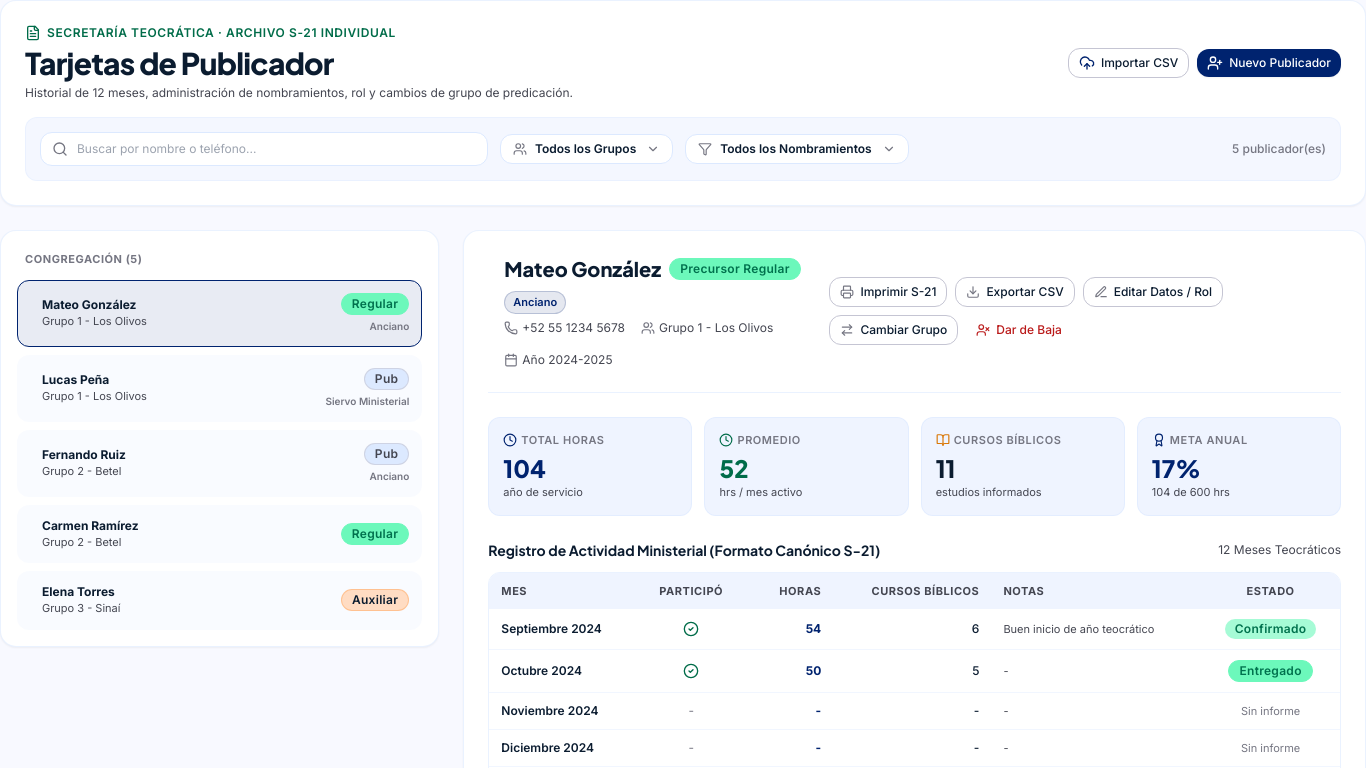
Test: PublisherCardsPage › abre el modal de crear publicador y registra uno nuevo
Click the button "Nuevo Publicador": [1269, 63] box [1197,49,1341,77]
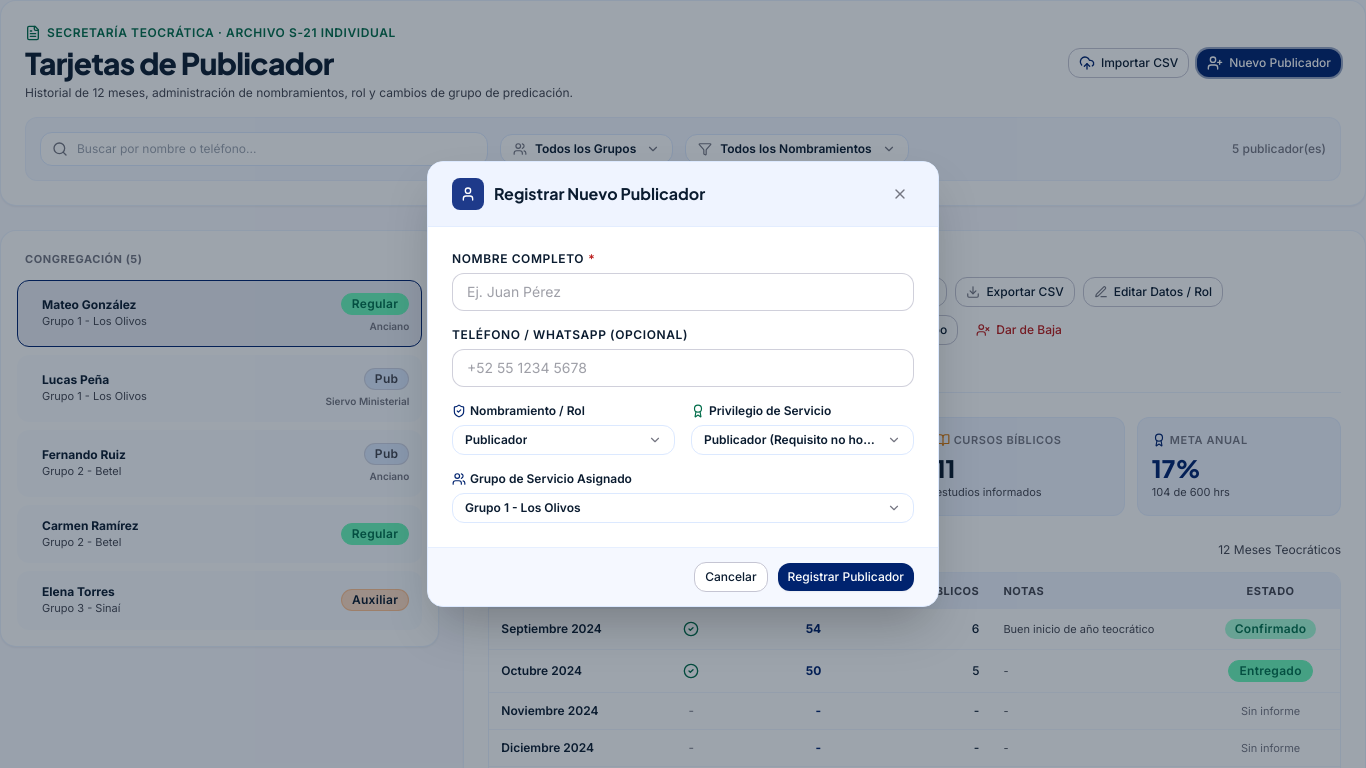
Expected: the heading "Registrar Nuevo Publicador" is shown, [494,182,705,206]
In the field labelled "Nombre Completo*": [683, 292] box [452,273,914,311], type "Benjamín Castro"
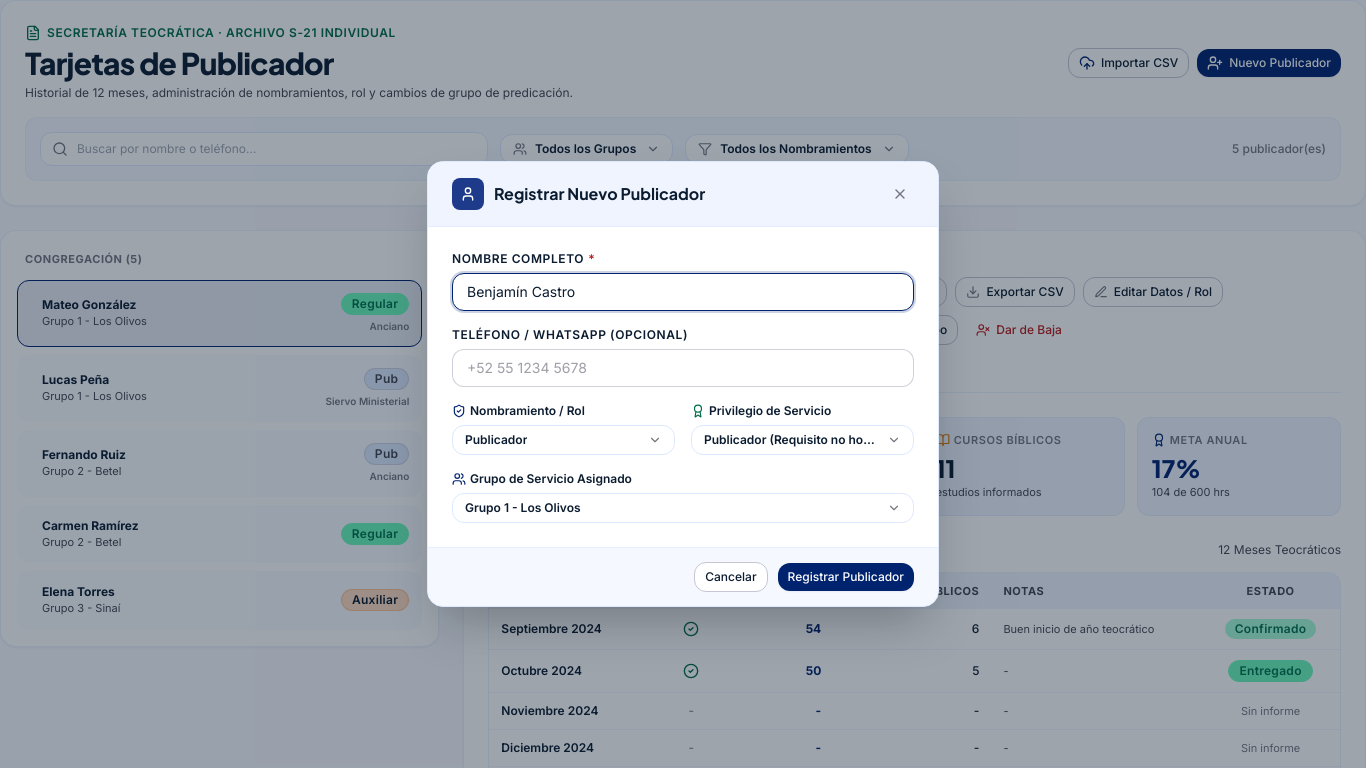
Click the button "Registrar Publicador": [846, 577] box [778,563,914,591]
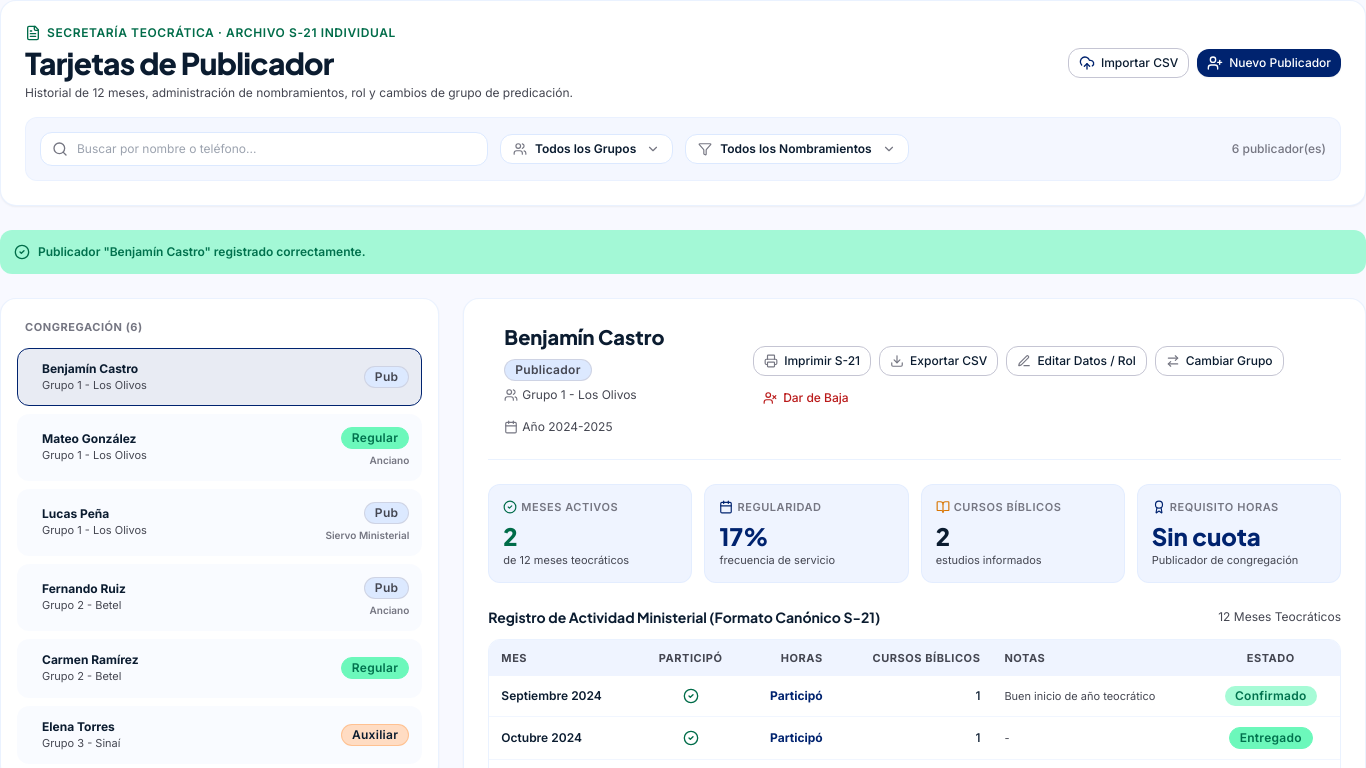
Expected: the text "Publicador \"Benjamín Castro\" registrado correctamente." is shown, [38,244,366,260]
